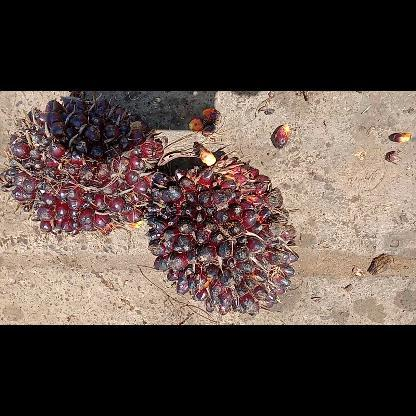Kurang masak: (144, 146, 300, 318), (0, 94, 169, 239)
